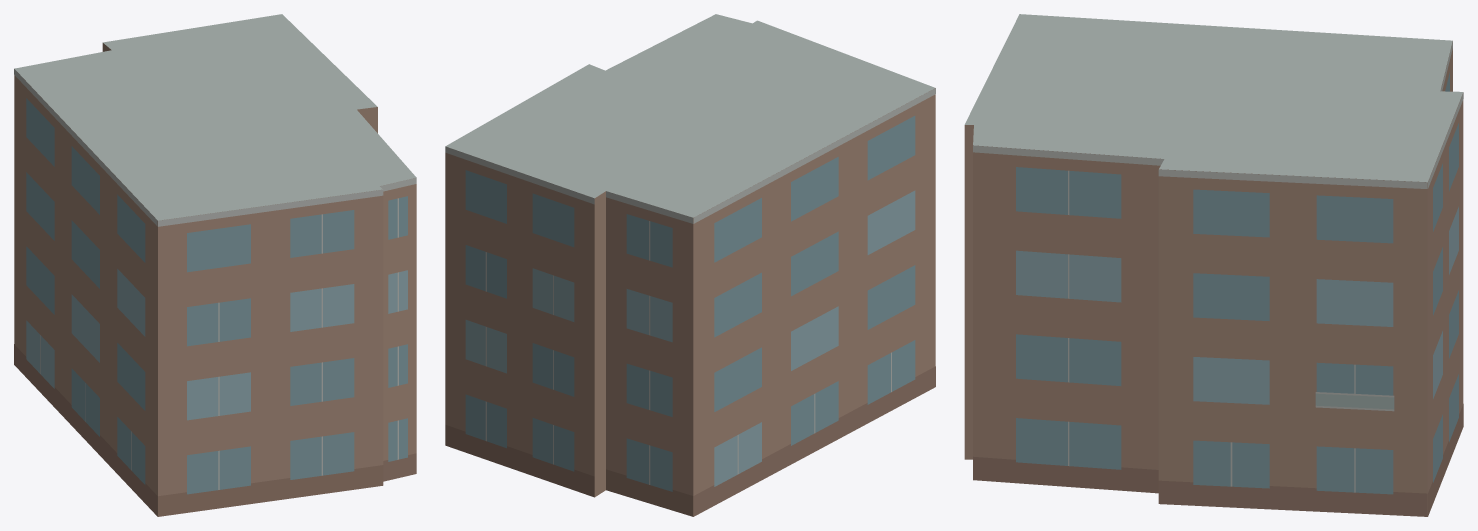
File: survey-upis-32536993.glb
The picture shows the model from 3 angles, left to right: view 1: azimuth 30°, elevation 25°; view 2: azimuth 150°, elevation 25°; view 3: azimuth 270°, elevation 25°; orthographic projection. The views are drawn at different scales.
Visible parts, largest first — view 1: survey-upis-32536993.tmp; view 2: survey-upis-32536993.tmp; view 3: survey-upis-32536993.tmp.
Part boxes in pixels (box(x1,y1,x2,y2)): survey-upis-32536993.tmp: box(14, 14, 416, 516); survey-upis-32536993.tmp: box(445, 14, 935, 516); survey-upis-32536993.tmp: box(964, 14, 1463, 516).
Bounding box in the file's own units: 12.62 × 11.7 × 15.82.
